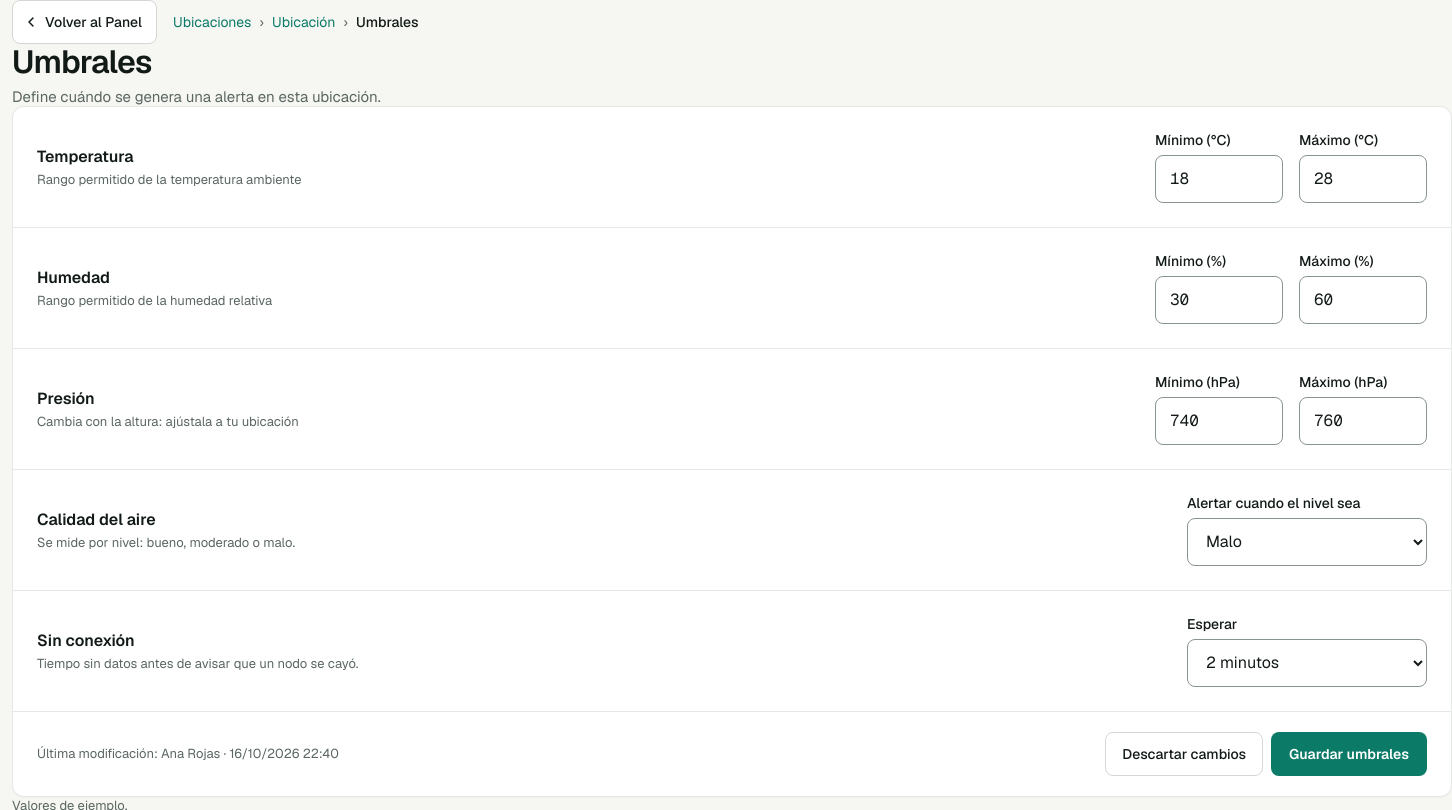
Test case: Umbrales › deshabilita los controles mientras guarda y evita envíos repetidos
Click the button "Guardar umbrales".
click(1349, 754)  # box [1271,732,1427,776]
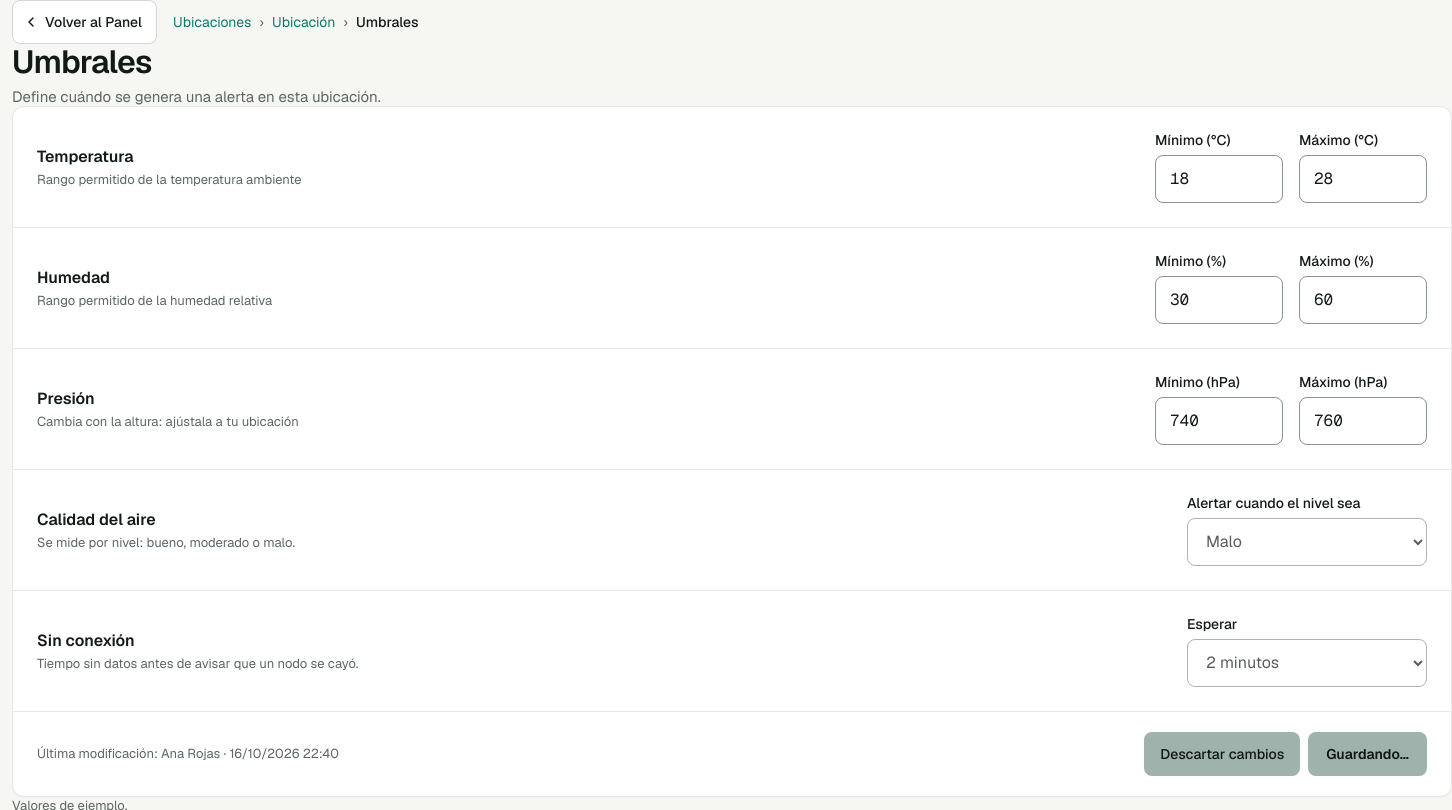
Expected: the dropdown labelled "Esperar" is disabled, [1187,639,1427,687]
Expected: the button "Guardando…" is disabled, [1308,732,1427,776]
Expected: the button "Descartar cambios" is disabled, [1144,732,1300,776]
Submit the form
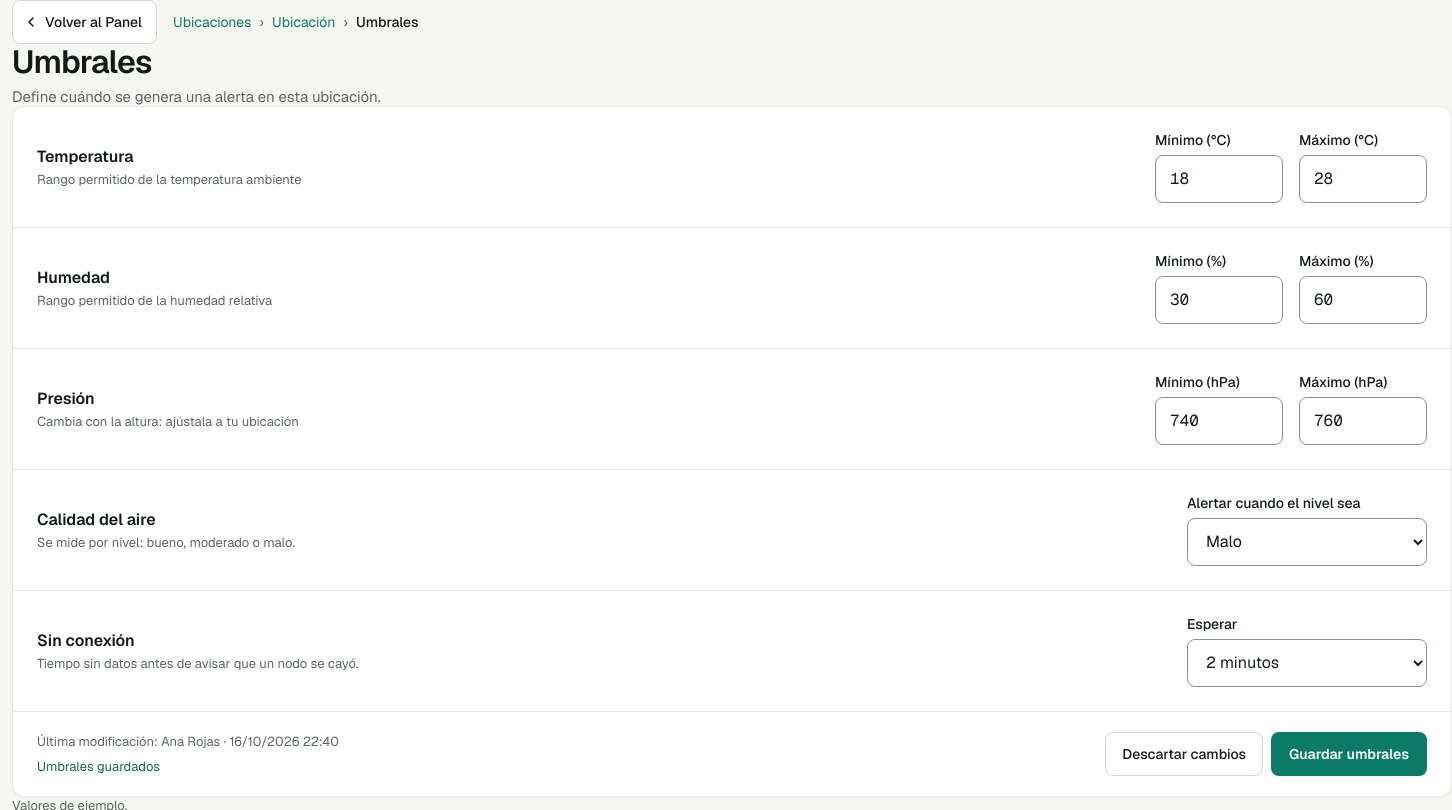
Expected: the button "Guardar umbrales" is enabled, [1271,732,1427,776]
